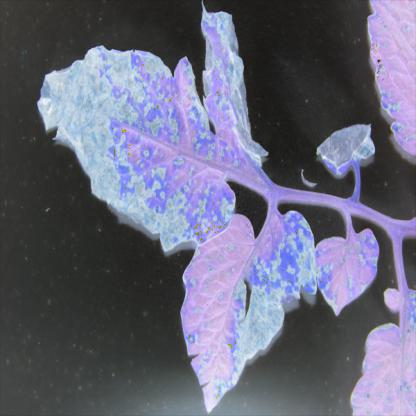tomato septoria leaf spot: (27, 46, 239, 251), (175, 202, 327, 415), (194, 6, 279, 167), (361, 3, 415, 181), (347, 280, 415, 415), (311, 223, 379, 323)
